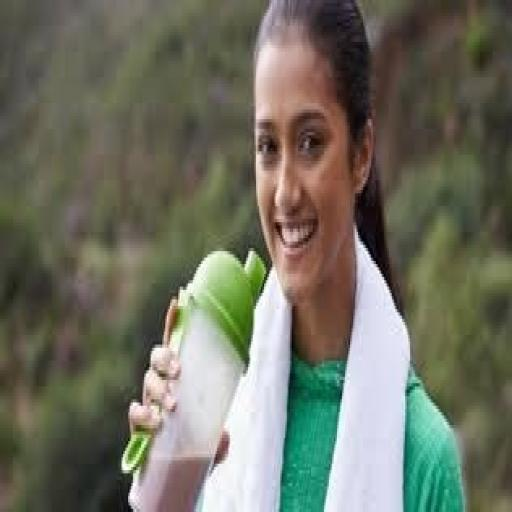drinking: (120, 0, 374, 477)
